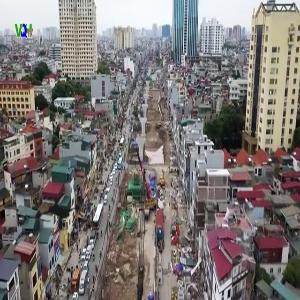drone: (13, 167, 107, 261)
